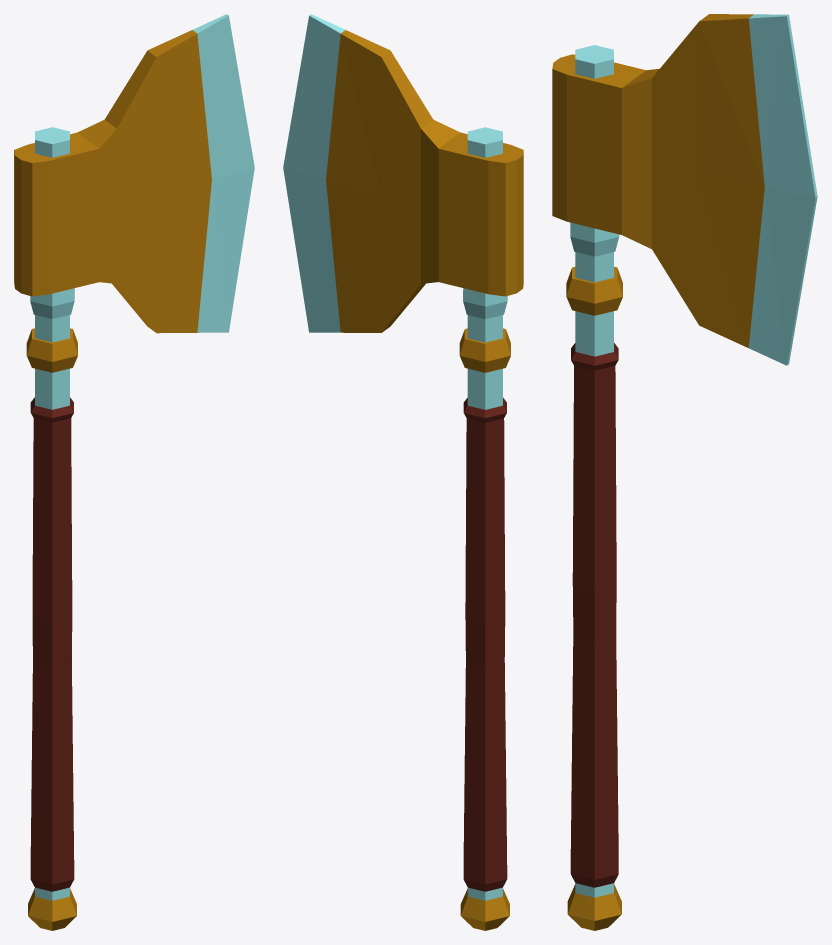
File: Axe3.fbx
3 renders of one model, left to right at view 1: azimuth 30°, elevation 25°; view 2: azimuth 150°, elevation 25°; view 3: azimuth 330°, elevation 25°, orthographic. The views are drawn at different scales.
Parts seen in each view (by area): view 1: Axe3; view 2: Axe3; view 3: Axe3.
Part boxes in pixels (x1,y1,x2,y2): Axe3: [14, 14, 254, 930]; Axe3: [283, 14, 523, 930]; Axe3: [552, 14, 817, 930].
Size of the model in its own units: 0.3417 by 1.2 by 0.0645.
